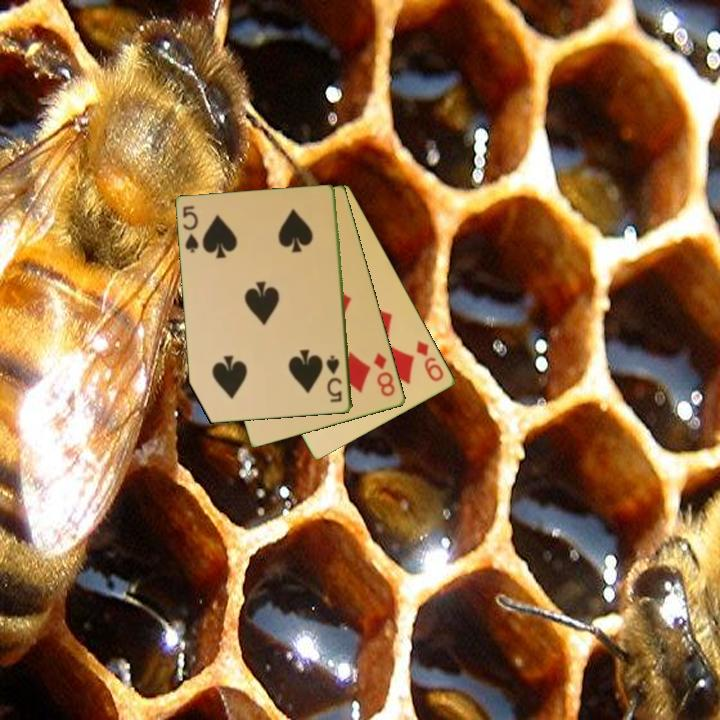5s: (323, 352, 345, 405), (180, 203, 202, 256)
8d: (371, 349, 398, 400)
9d: (413, 337, 447, 385)
